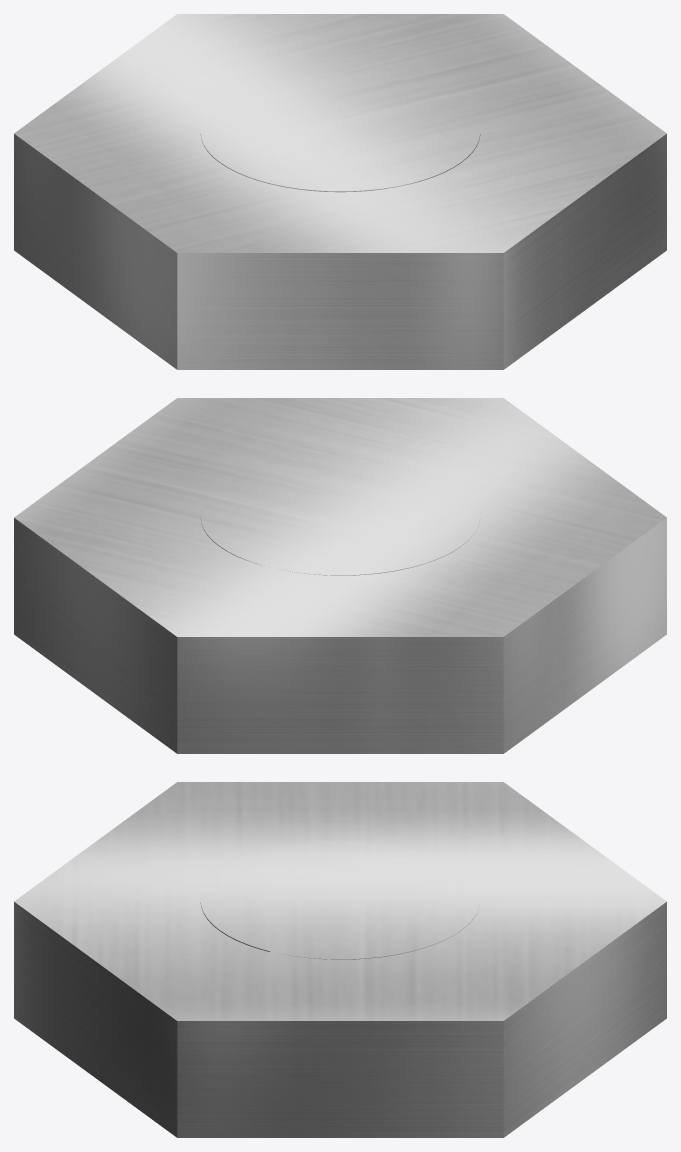
Rendered from Screw.fbx.
3 views of the same model, one above another, from view 1: azimuth 30°, elevation 25°; view 2: azimuth 150°, elevation 25°; view 3: azimuth 270°, elevation 25° (orthographic).
Visible parts, largest first — view 1: Cylinder; view 2: Cylinder; view 3: Cylinder.
Part boxes in pixels (left/top/right/bottom): Cylinder: left=14, top=14, right=666, bottom=369; Cylinder: left=14, top=398, right=666, bottom=753; Cylinder: left=14, top=782, right=666, bottom=1137.
Bounding box in the file's own units: 239 × 55.69 × 276.
1 material, 1 textured.
